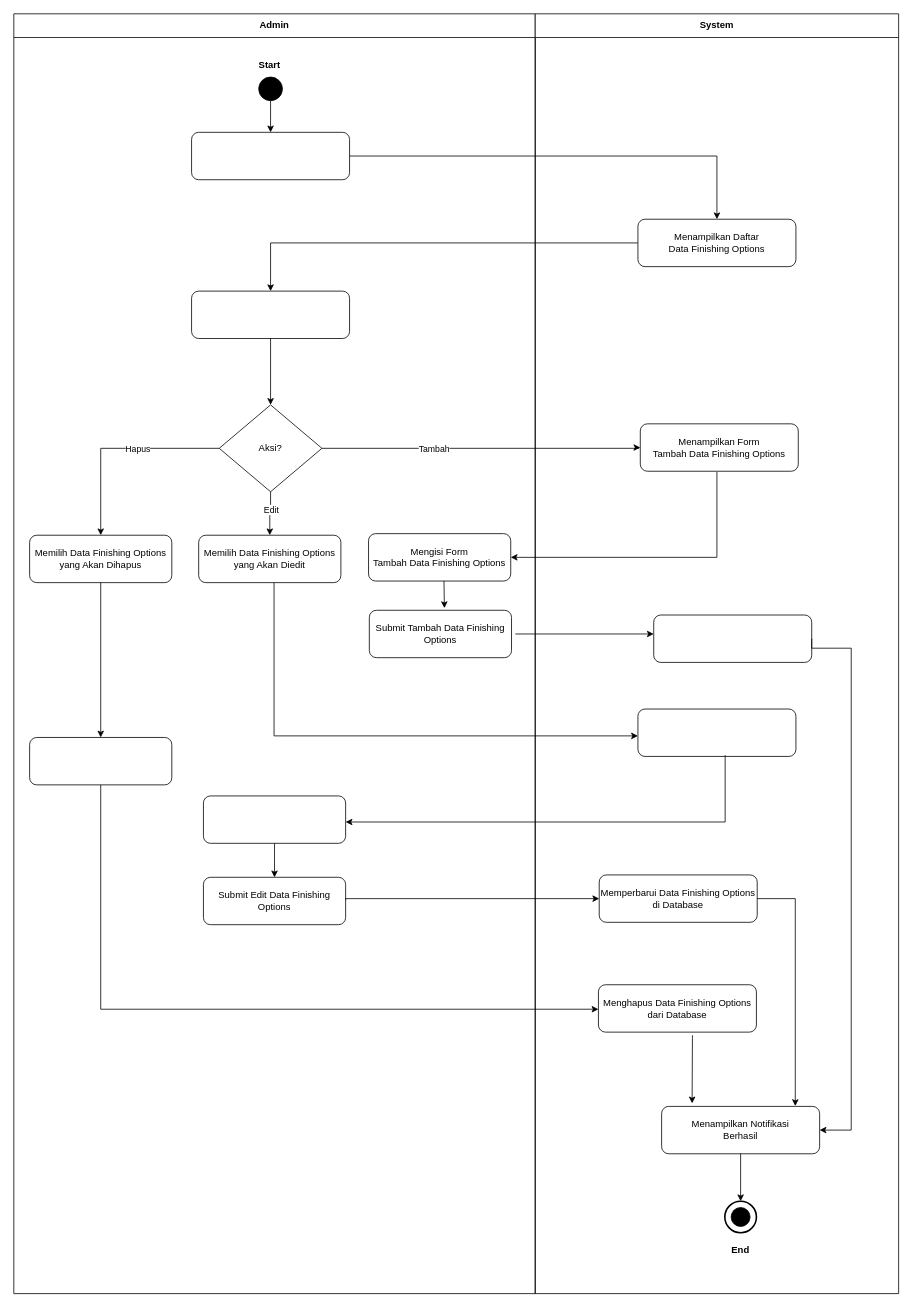
This 912x1307 diagram has some shape labels left out. The centre of each missing label's shape, as x and y in pixels:
Memilih Aksi: the point at 270,314
Menampilkan Form Edit Data Finishing Options: the point at 716,732
Mengakses Halaman Finishing Options Management: the point at 270,156
Mengonfirmasi Penghapusan Data: the point at 100,761
Mengubah Data pada Form Edit: the point at 274,819
Menyimpan Data Finishing Options Baru ke Database: the point at 732,638
